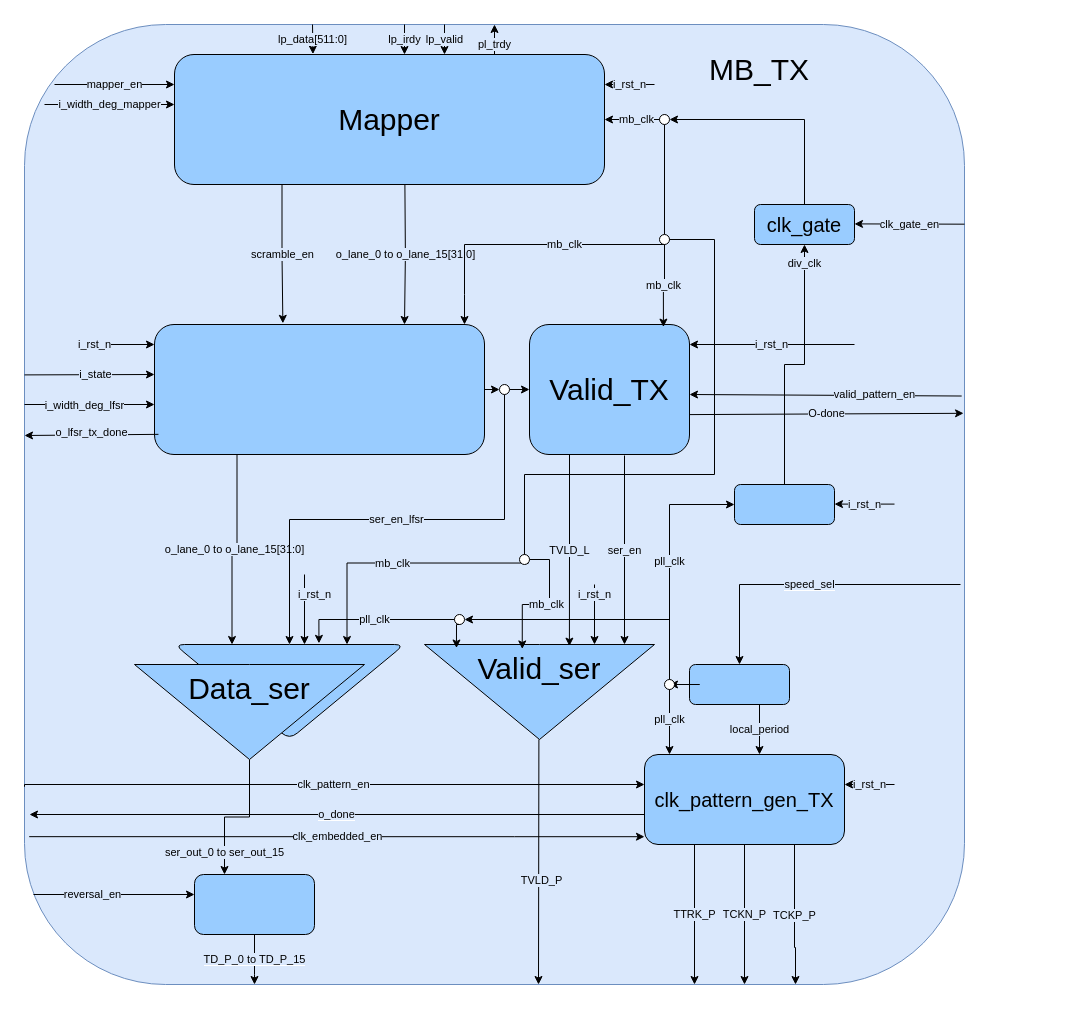
Some shapes in this 1090 by 1010 pixel diagram are drawn without their labels. Each missing label, with the centre of its shape:
"clk_div/16" belongs at point (784, 504).
"LFSR_TX" belongs at point (319, 389).
"mb_tx_reversal" belongs at point (254, 904).
"PLL" belongs at point (739, 684).
